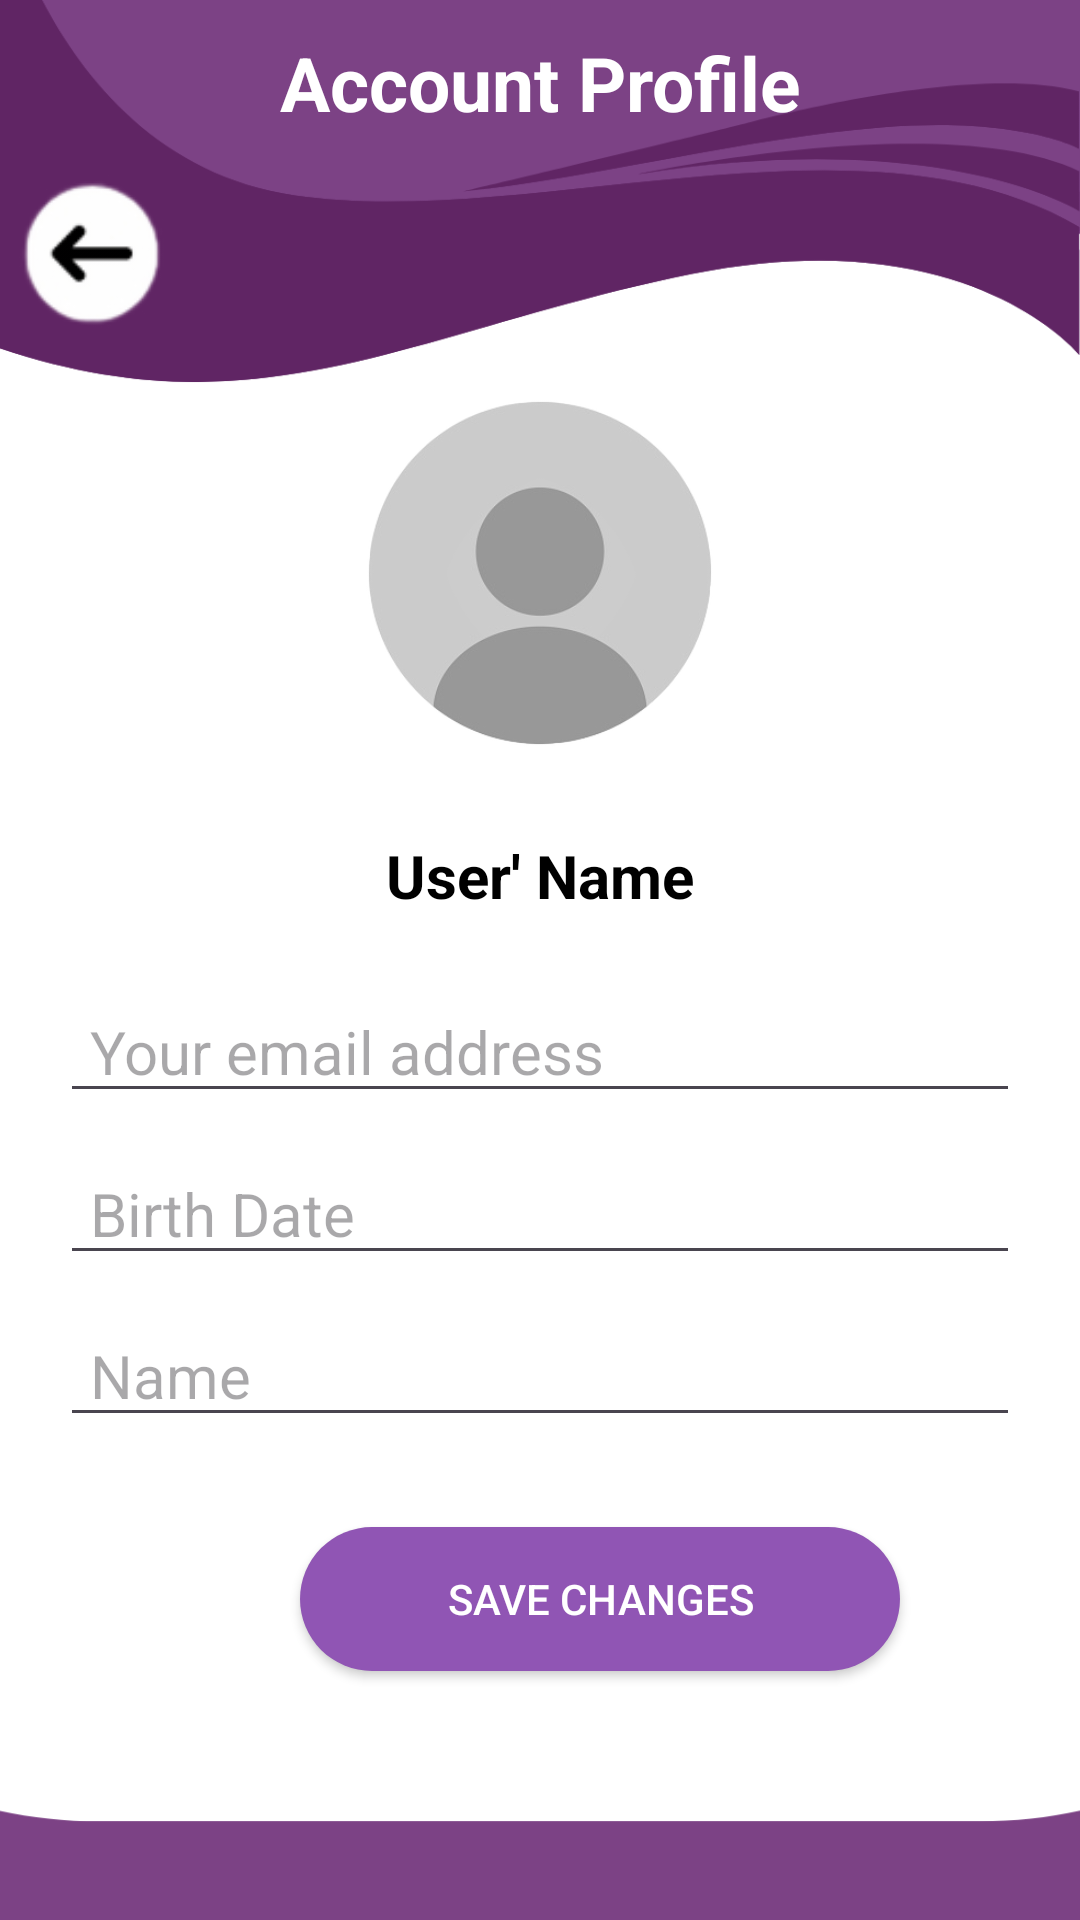

Named icons in this screenshot (1080px×1920px) and their bounding boxes, (x1, y1, x2, y2):
Back: (24, 183, 160, 323)
defaultavatar: (369, 402, 711, 744)
